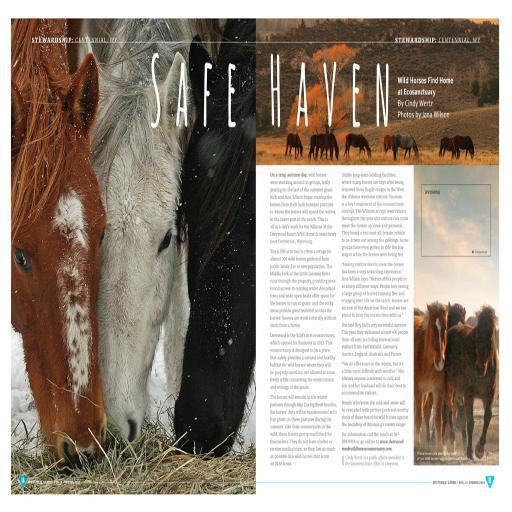horse: (74, 18, 226, 456), (10, 18, 110, 478), (172, 15, 256, 461), (442, 302, 500, 461), (412, 302, 466, 454), (412, 300, 448, 456), (390, 135, 420, 161), (314, 132, 340, 160), (343, 134, 372, 159), (451, 135, 474, 161), (283, 133, 304, 161), (436, 135, 456, 162), (307, 134, 321, 160), (383, 133, 393, 158)
